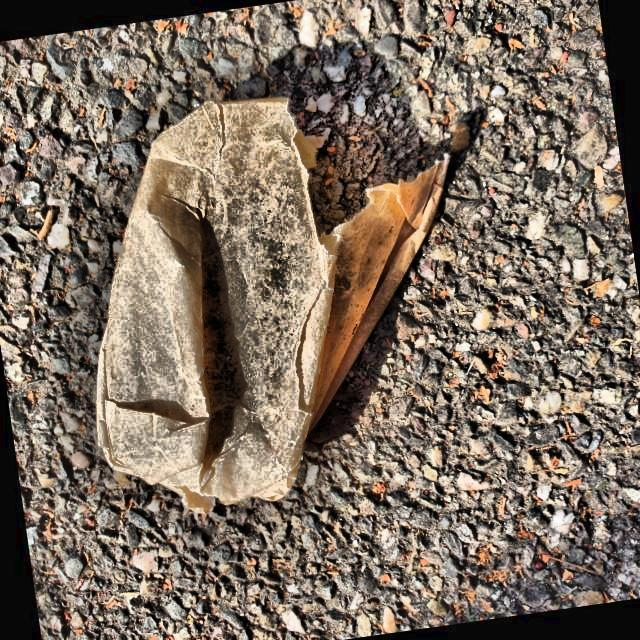cardboard: (94, 96, 480, 515)
